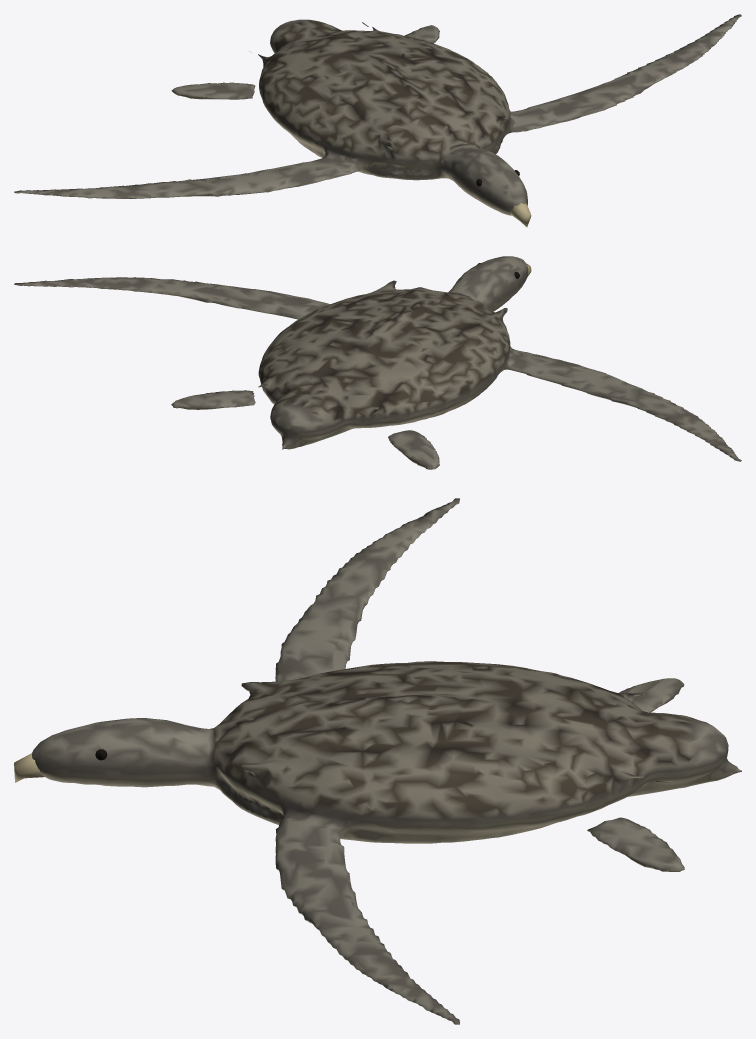
Rendered from Protostega.fbx.
The picture shows the model from 3 angles, top to bottom: view 1: azimuth 30°, elevation 25°; view 2: azimuth 150°, elevation 25°; view 3: azimuth 270°, elevation 25°; orthographic projection. The views are drawn at different scales.
Visible parts, largest first — view 1: Protostega; view 2: Protostega; view 3: Protostega.
Boxes of the visible parts, box(x1,y1,x2,y2) form: Protostega: box(14, 14, 741, 227); Protostega: box(14, 256, 741, 469); Protostega: box(14, 498, 741, 1024).
Bounding box in the file's own units: 2.59 × 0.2414 × 1.52.
